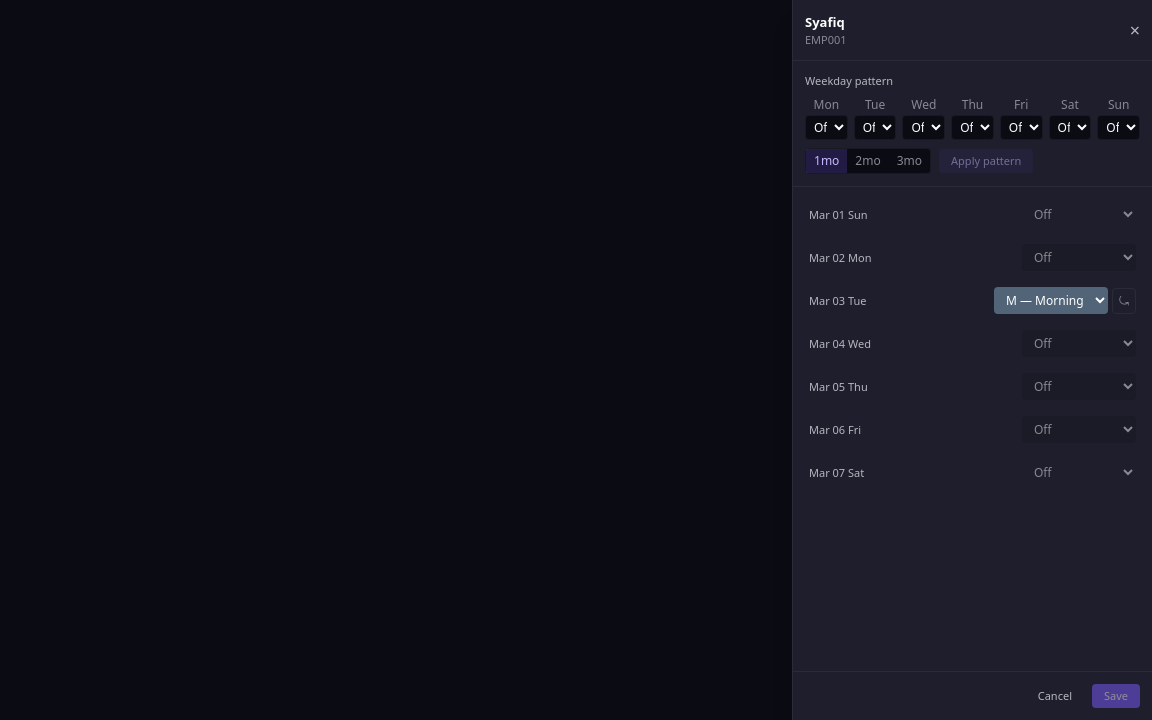
Scenario: RowEditPanel › expands the day-row with CoverUpPicker when ⤿ is clicked
Click the button named "cover-up for": (1124, 300) [1112,288,1136,314]
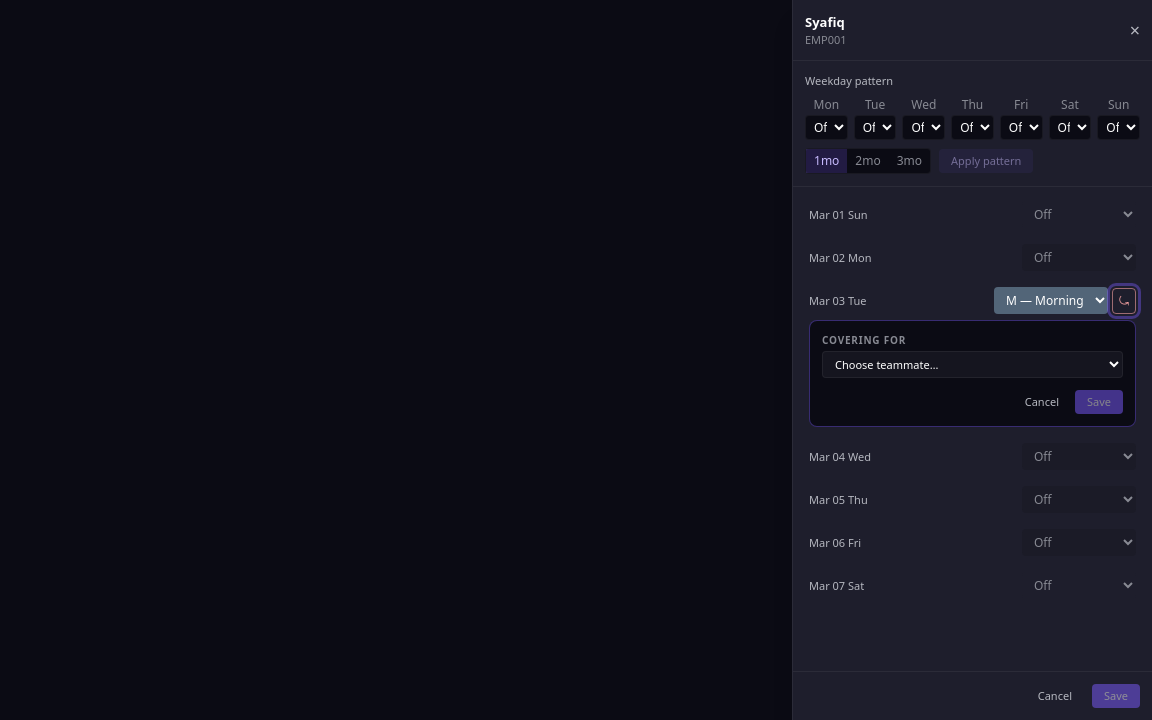
Check: the dropdown labelled "Covering for" is shown, box [822,351,1123,378]
